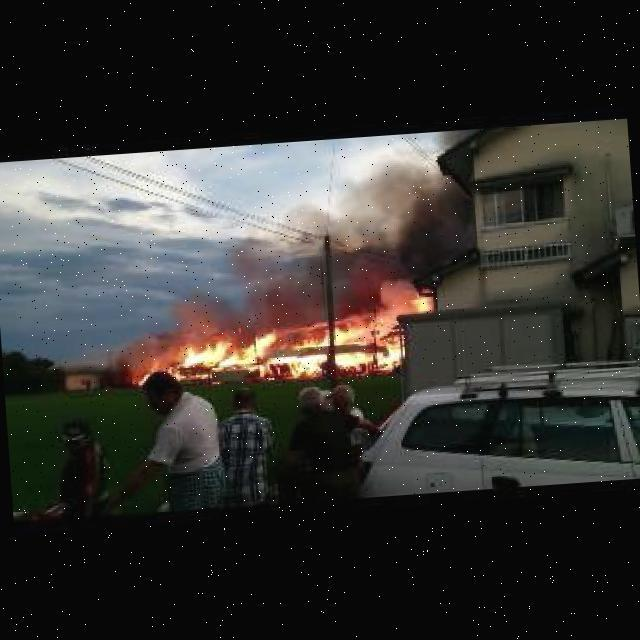Fire: (167, 323, 403, 383), (133, 359, 162, 381), (415, 293, 432, 314)
Smoke: (309, 150, 463, 314)
